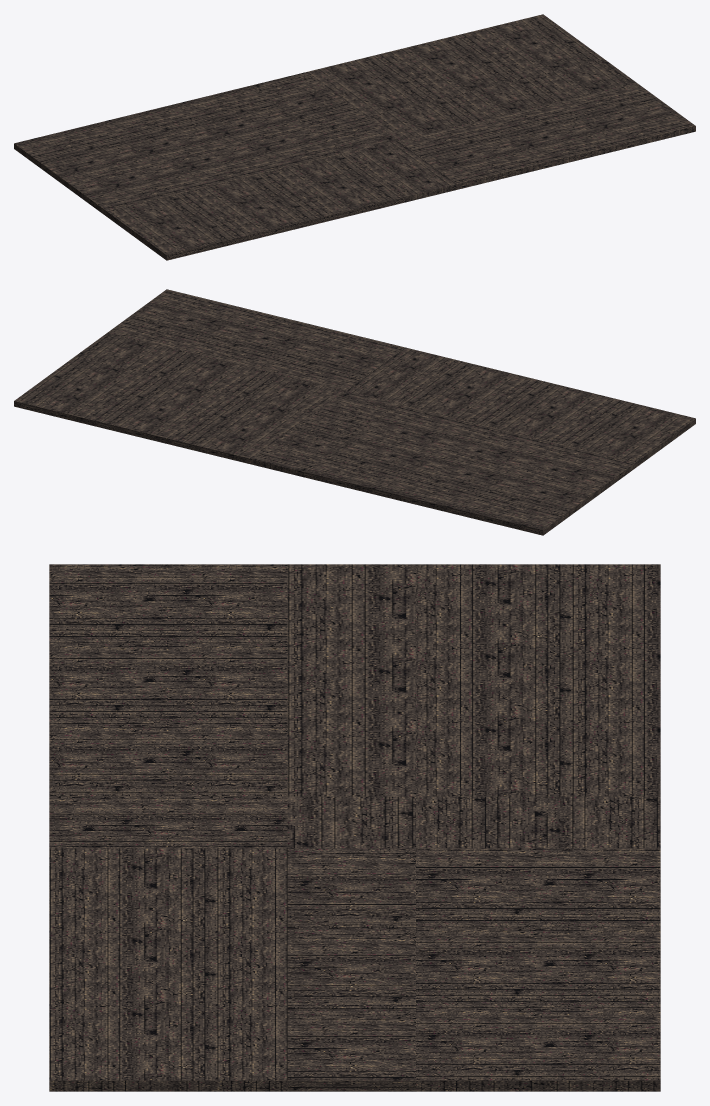
File: FLOOR_1_UV3.fbx
3 renders of one model, top to bottom at view 1: azimuth 30°, elevation 25°; view 2: azimuth 150°, elevation 25°; view 3: azimuth 270°, elevation 25°, orthographic. The views are drawn at different scales.
Visible parts, largest first — view 1: FLOOR_01; view 2: FLOOR_01; view 3: FLOOR_01.
Boxes of the visible parts, x1=… form: FLOOR_01: x1=14, y1=14, x2=695, y2=260; FLOOR_01: x1=14, y1=289, x2=695, y2=535; FLOOR_01: x1=49, y1=564, x2=660, y2=1091.
Size of the model in its own units: 4000 by 40 by 2000.
